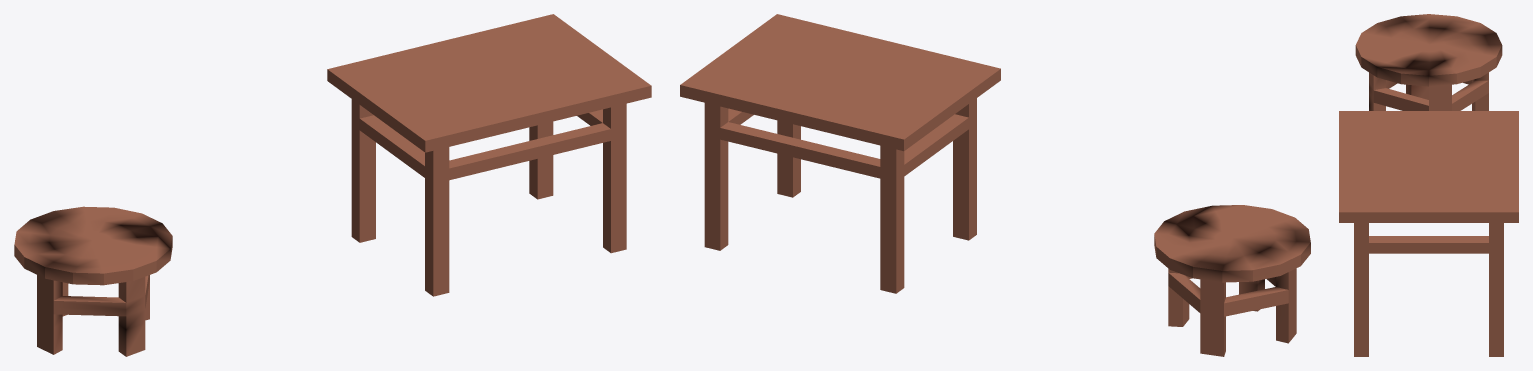
File: mesa_banquito.fbx
The picture shows the model from 3 angles, left to right: view 1: azimuth 30°, elevation 25°; view 2: azimuth 150°, elevation 25°; view 3: azimuth 270°, elevation 25°; orthographic projection. The views are drawn at different scales.
Parts seen in each view (by area): view 1: Cube, Cylinder; view 2: Cube, Cylinder; view 3: Cube, Cylinder.
Part boxes in pixels (<box>): Cube: <box>327,14,651,296</box>; Cylinder: <box>14,206,172,356</box>; Cube: <box>680,14,1000,293</box>; Cylinder: <box>1154,205,1310,356</box>; Cube: <box>1339,111,1518,356</box>; Cylinder: <box>1355,14,1502,110</box>.
Size of the model in its own units: 1022 by 280 by 300.
